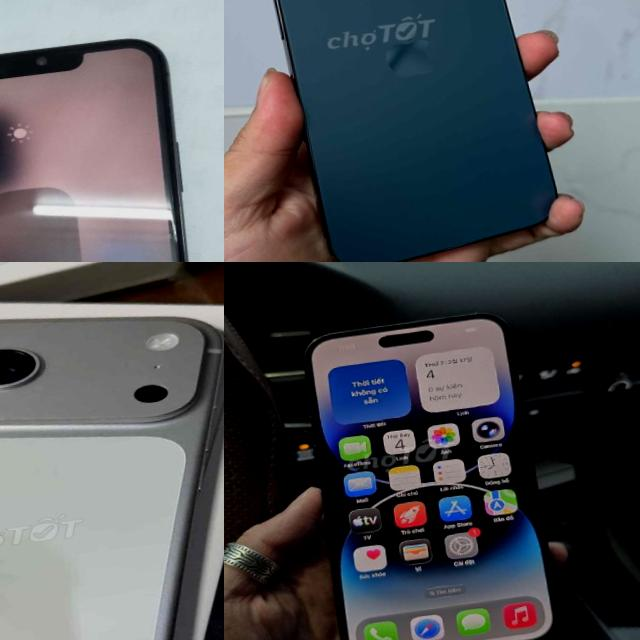gen_11: (0, 25, 224, 262)
gen_12_13: (243, 0, 572, 262)
gen_14: (290, 295, 565, 640)
gen_17: (0, 262, 224, 640)
